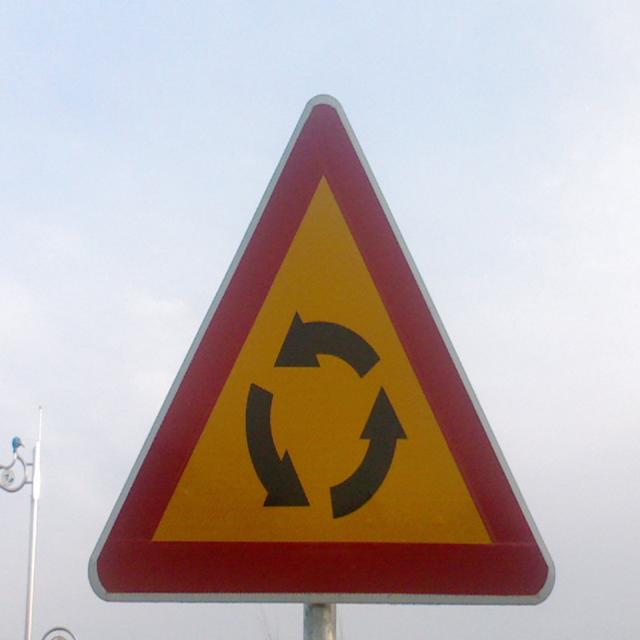Roundabout: (83, 49, 567, 612)
